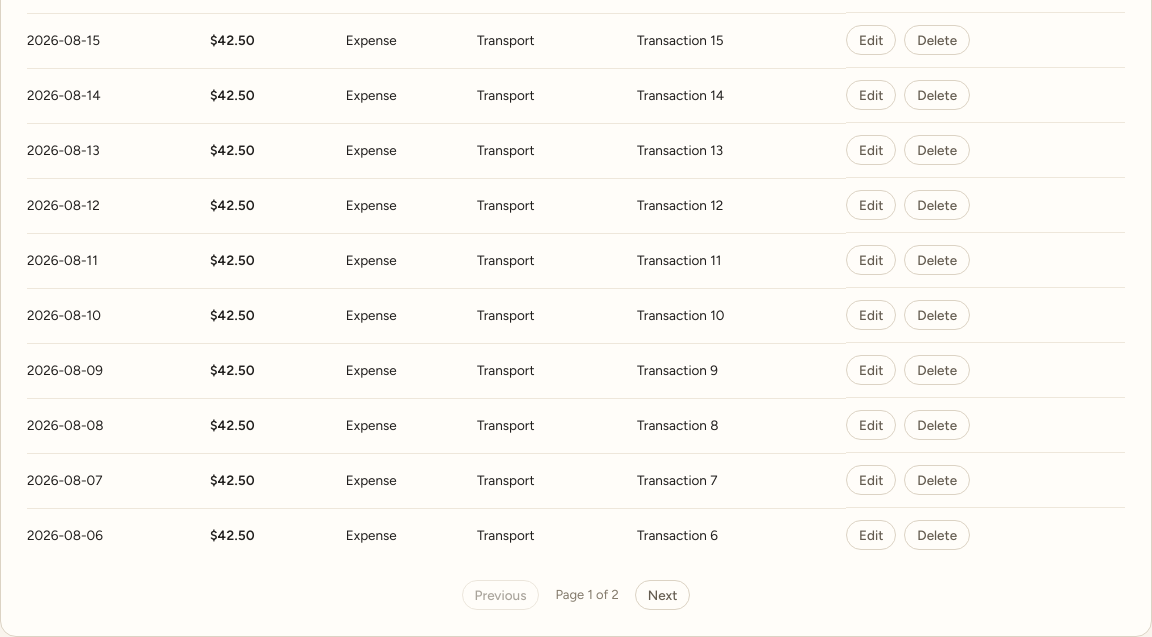
Transactions › pagination › returns to page 1 when a filter narrows the list below the current page
The image size is (1152, 637).
(page scrolled)
Click the button "Next": (663, 595) x1=635 y1=580 x2=690 y2=610
(page scrolled)
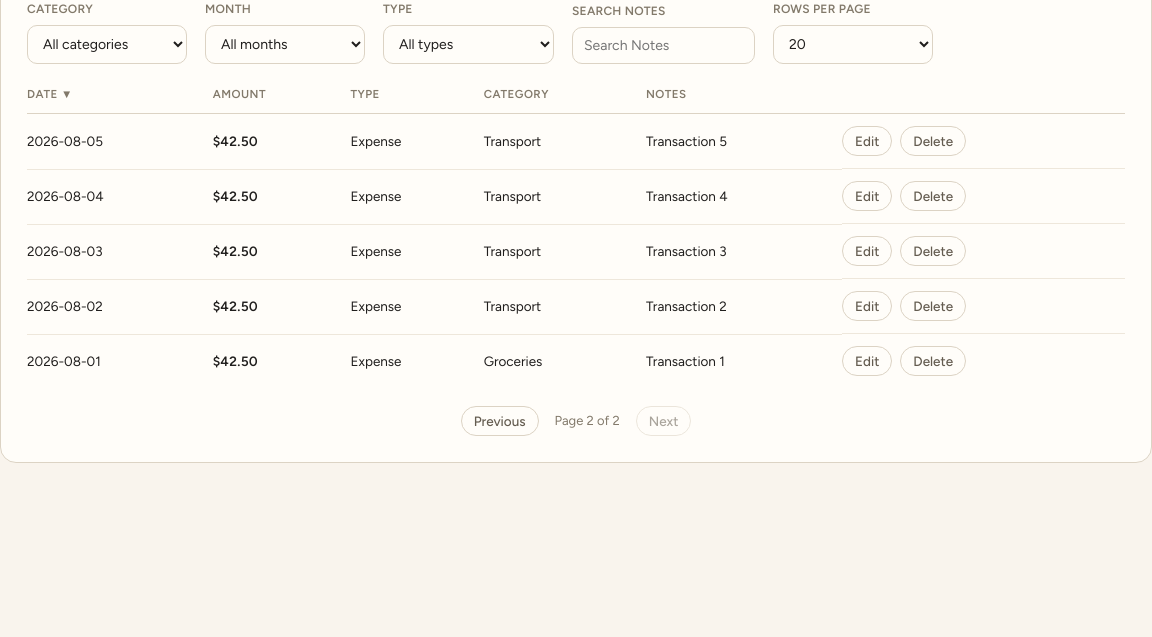
expect the text "Page 2 of 2" is shown: met, box x1=554 y1=411 x2=620 y2=431
Select "Groceries" in the dropdown labelled "Category": (107, 44) x1=27 y1=25 x2=187 y2=64
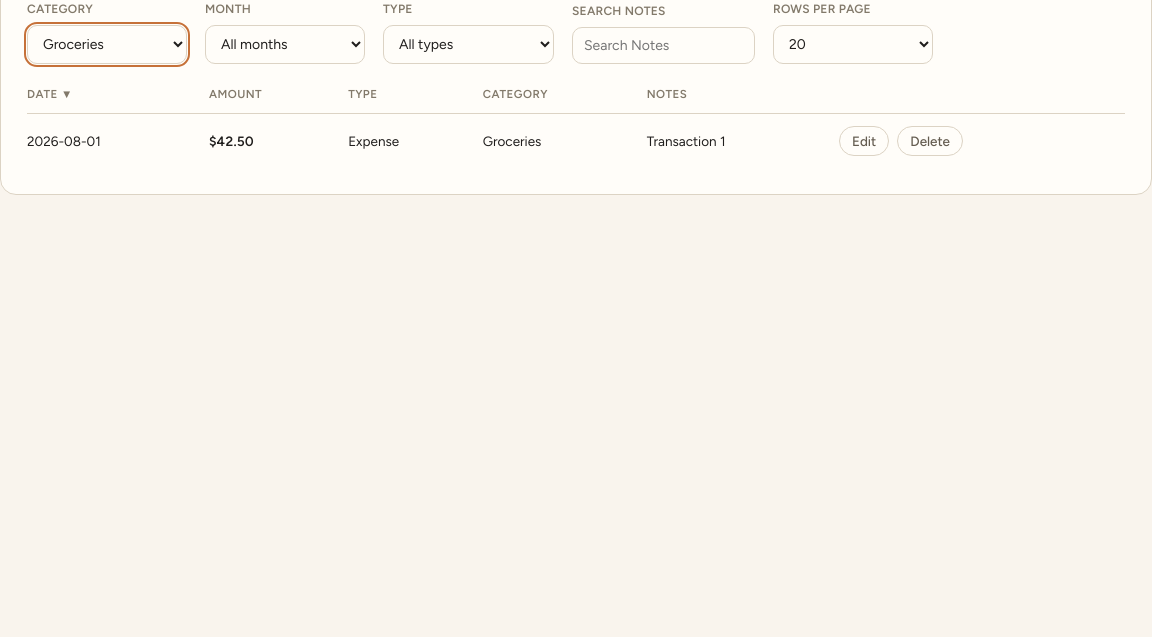
expect the text "Page 2 of 2" is gone: met
